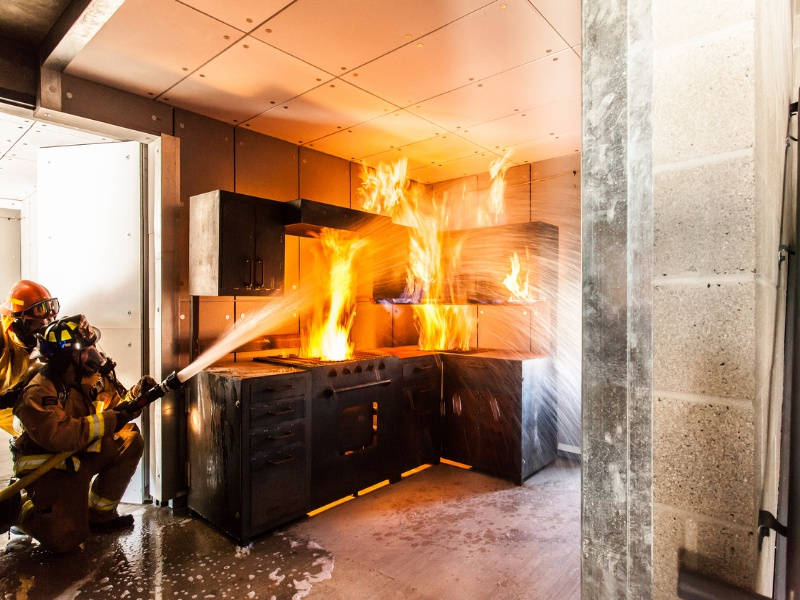fire: (297, 221, 370, 386), (407, 220, 476, 358), (467, 150, 526, 227), (348, 163, 421, 218), (497, 250, 541, 306), (419, 191, 464, 223)
